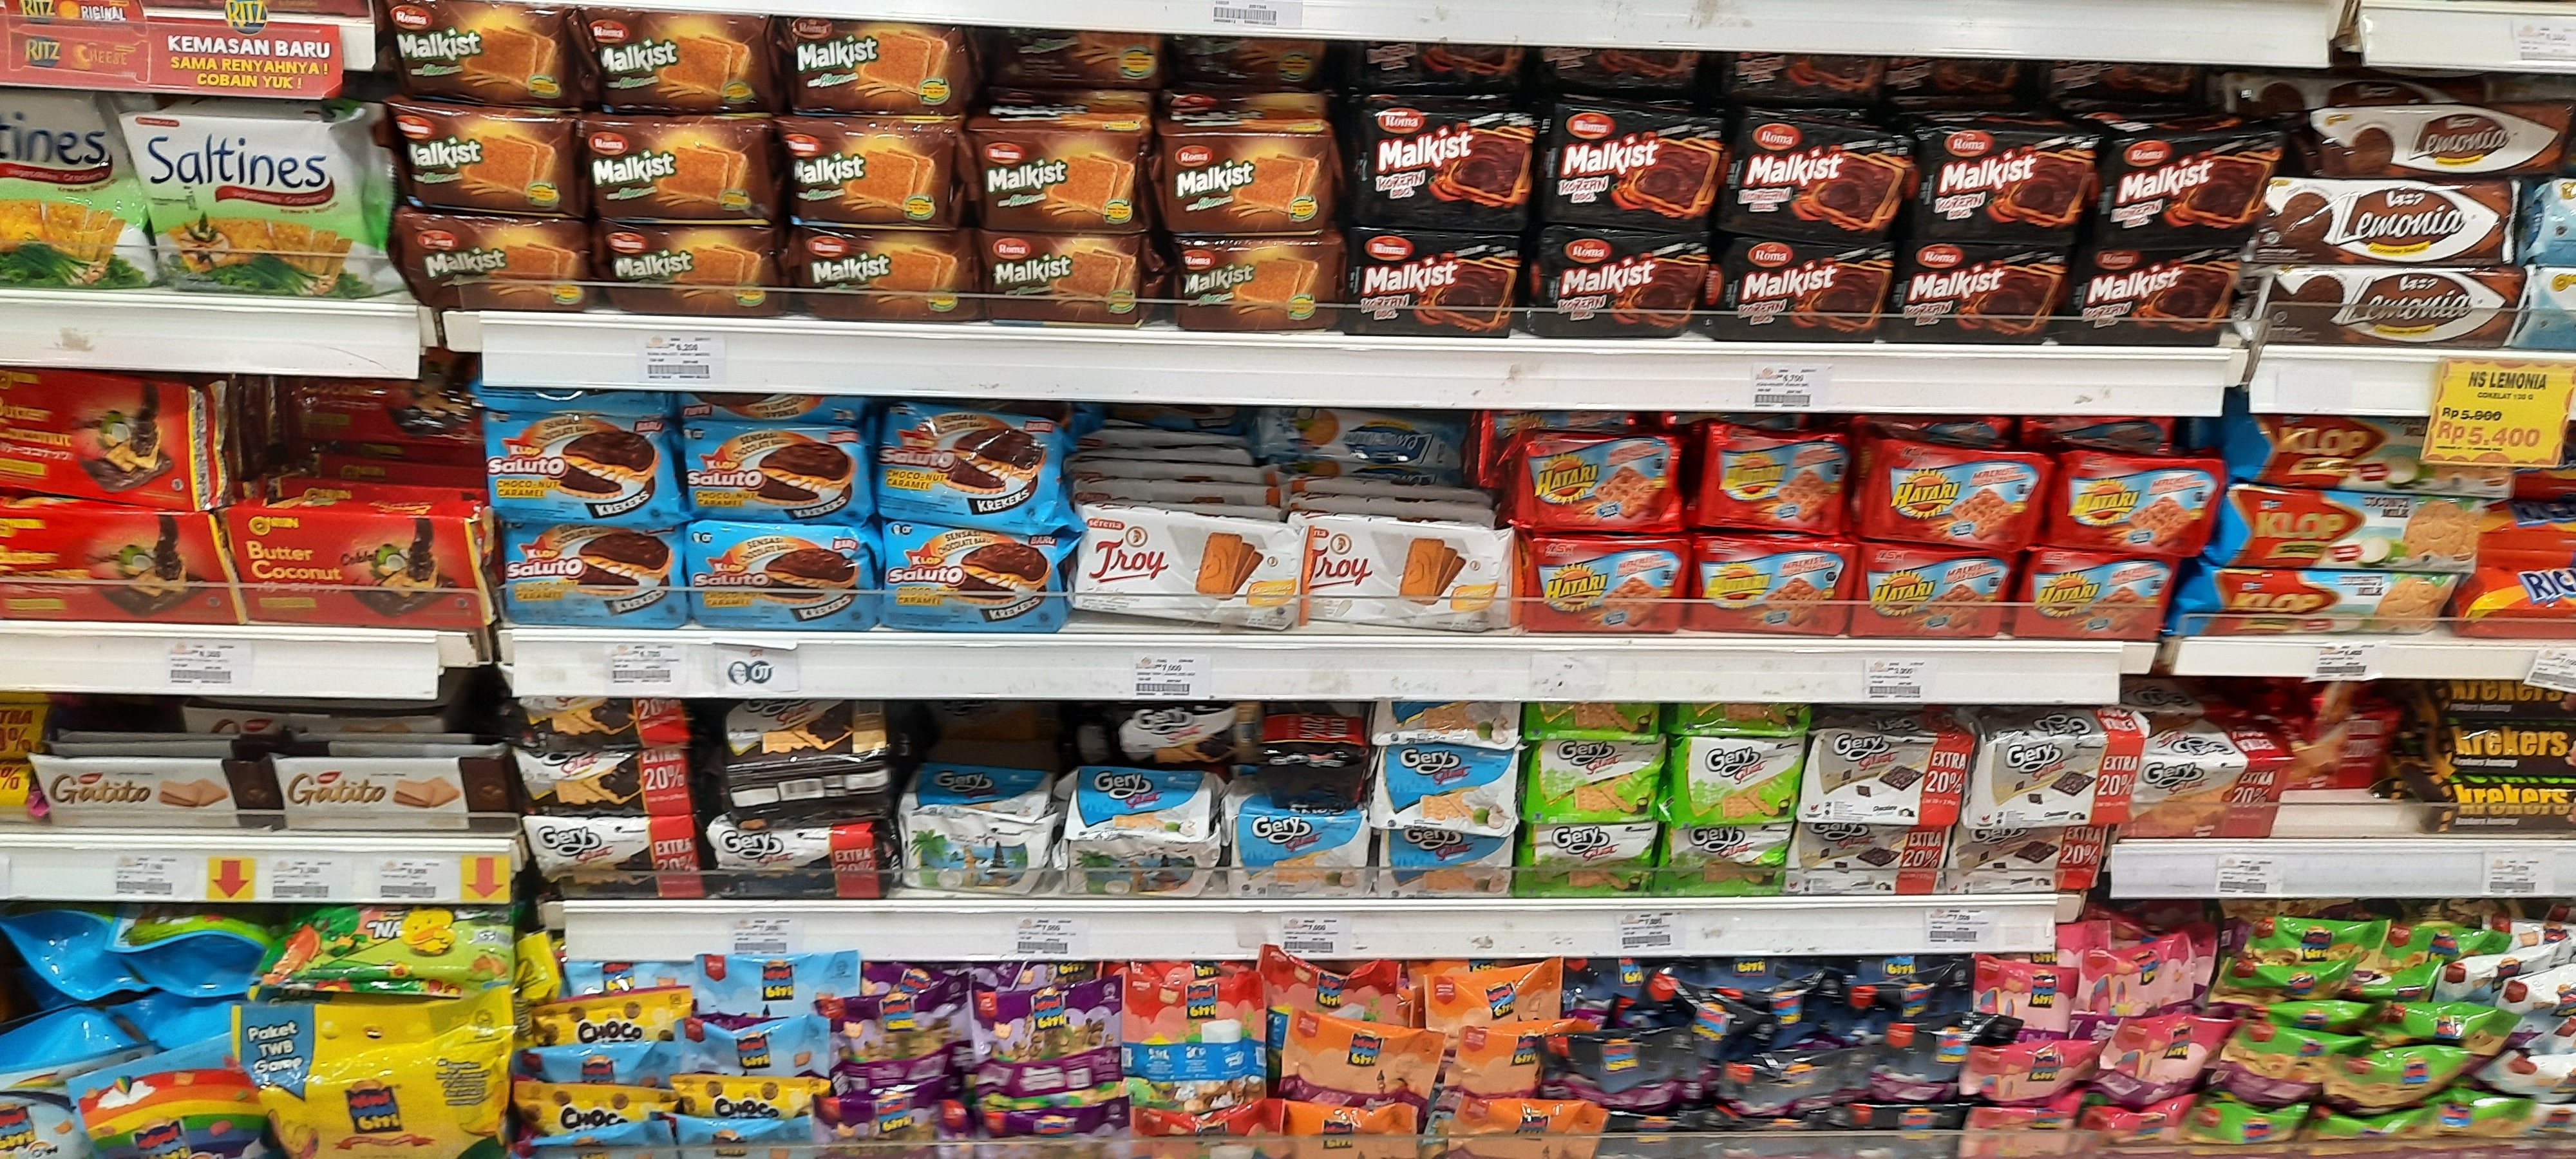90101225202101: (521, 814, 706, 900), (708, 819, 892, 896), (516, 745, 692, 814), (1111, 704, 1230, 765)
90101225209100: (1066, 767, 1216, 850), (1372, 745, 1518, 829), (1222, 813, 1368, 896), (1380, 829, 1515, 900)
90101225212101: (1669, 735, 1804, 824), (1526, 737, 1666, 821), (1520, 821, 1658, 896), (1658, 824, 1789, 895)
90101225218101: (1970, 714, 2139, 822), (1802, 724, 1973, 826), (1791, 824, 1943, 893), (1950, 826, 2100, 891)
90101225226101: (2139, 727, 2290, 839)
HatariMalkistSugarCrackers: (1865, 447, 2044, 545), (1516, 433, 1682, 534), (1694, 424, 1851, 529), (1690, 535, 1851, 637), (2055, 455, 2218, 553), (1523, 535, 1687, 632), (1855, 545, 2016, 637), (2016, 552, 2175, 639)
KlopCoconutMilkCrackers: (2224, 483, 2479, 575), (2175, 571, 2453, 634)
KlopSalutoChocoNutCaramel: (874, 405, 1065, 530), (483, 412, 683, 525), (882, 522, 1066, 634), (688, 522, 876, 630), (683, 424, 871, 527), (501, 524, 683, 625)
NabatiGatitoLidahKucingCokelat: (268, 755, 516, 831), (31, 755, 274, 831)
NissinButterCoconut: (223, 506, 491, 625), (0, 507, 223, 624), (0, 379, 202, 504)
NissinLemoniaChocolate: (2251, 264, 2525, 346), (2262, 177, 2515, 266), (2307, 107, 2568, 174)
RomaMalkistAbon: (585, 110, 775, 222), (389, 100, 575, 212), (966, 118, 1148, 231), (583, 8, 775, 112), (386, 0, 573, 103), (779, 120, 958, 227), (396, 215, 591, 312), (790, 11, 974, 112), (596, 222, 785, 317), (1160, 131, 1336, 233), (787, 230, 976, 323), (977, 233, 1157, 330), (1171, 235, 1342, 332)
RomaMalkistKoreanBBQ: (1727, 110, 1912, 235), (1543, 105, 1725, 228), (1357, 105, 1536, 223), (1345, 230, 1525, 340), (1709, 238, 1896, 343), (1919, 128, 2098, 236), (1529, 230, 1710, 337), (2100, 131, 2272, 241), (1896, 245, 2072, 346), (2073, 245, 2239, 345)
SaltinesVegetableCrackers: (125, 110, 384, 299)
SerenaCaramelisedBiscuitTroy: (1076, 507, 1298, 632), (1299, 524, 1518, 630)
